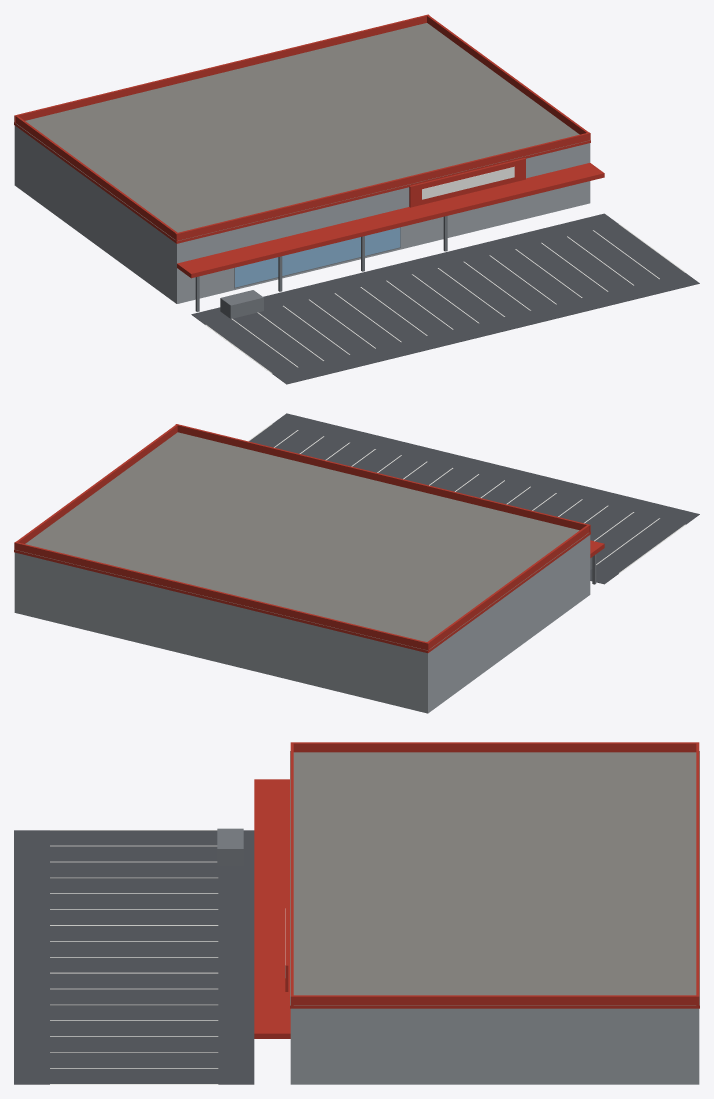
The model's file is supermarche_moderne.glb.
3 renders of one model, top to bottom at view 1: azimuth 30°, elevation 25°; view 2: azimuth 150°, elevation 25°; view 3: azimuth 270°, elevation 25°, orthographic. The views are drawn at different scales.
Parts seen in each view (by area): view 1: supermarche_moderne; view 2: supermarche_moderne; view 3: supermarche_moderne.
Part boxes in pixels (x1,y1,x2,y2): supermarche_moderne: [14, 14, 699, 384]; supermarche_moderne: [14, 413, 699, 713]; supermarche_moderne: [14, 742, 699, 1084].
Bounding box in the file's own units: 50.12 × 8.1 × 57.05.
1 material, 1 textured.
